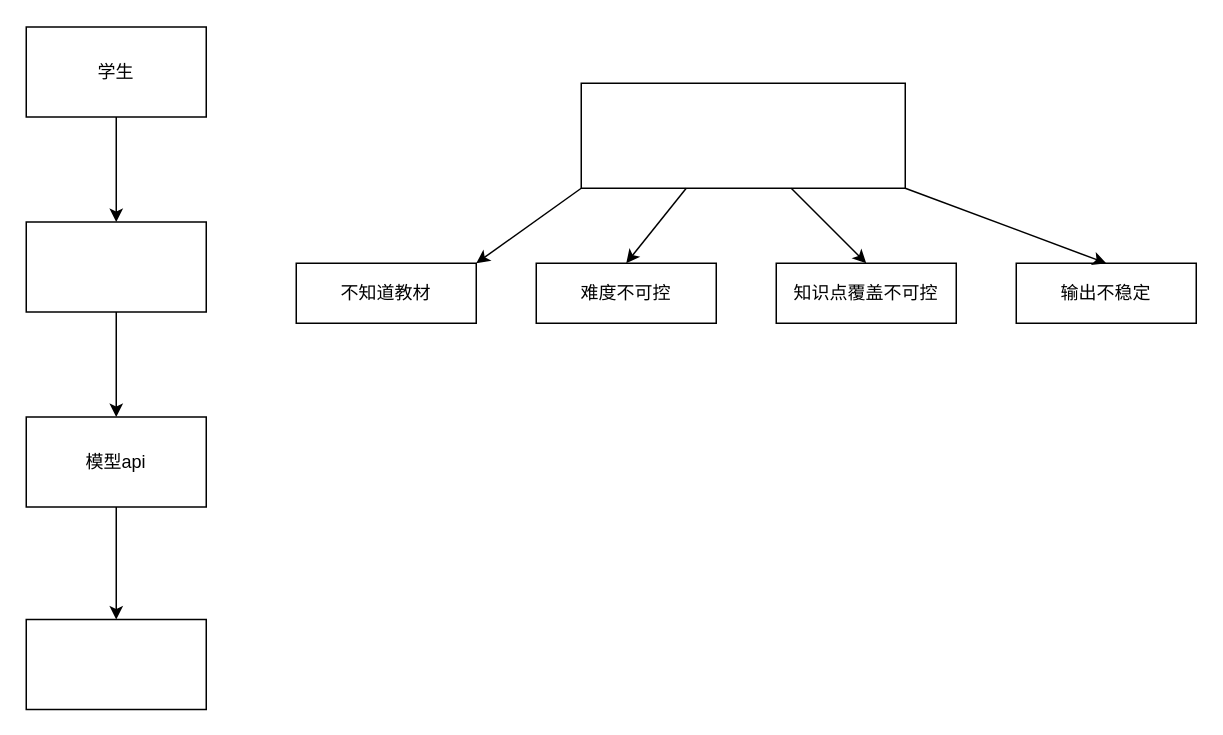
Some shapes in this 1223 by 735 pixel diagram are drawn without their labels. The box of each missing label's shape, as (x1, y1, x2, y2) in pixels:
prompt: (25, 220, 206, 312)
问题: (580, 82, 905, 188)
题目: (25, 618, 206, 710)
